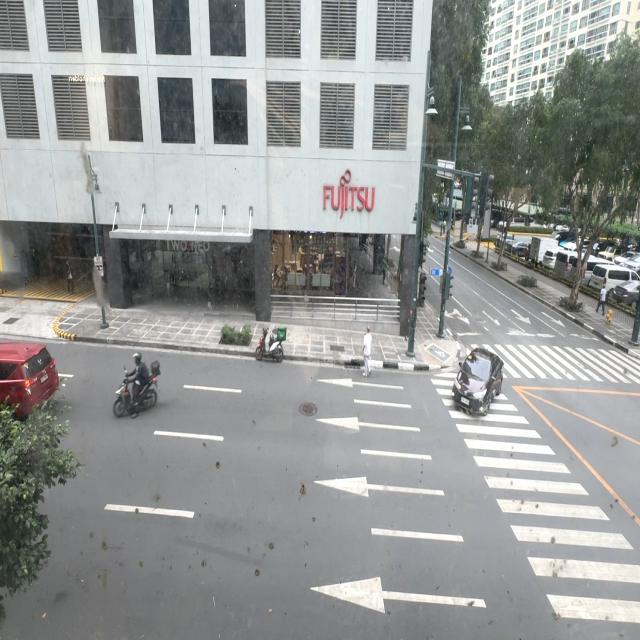jaywalking: (362, 326, 372, 378)
